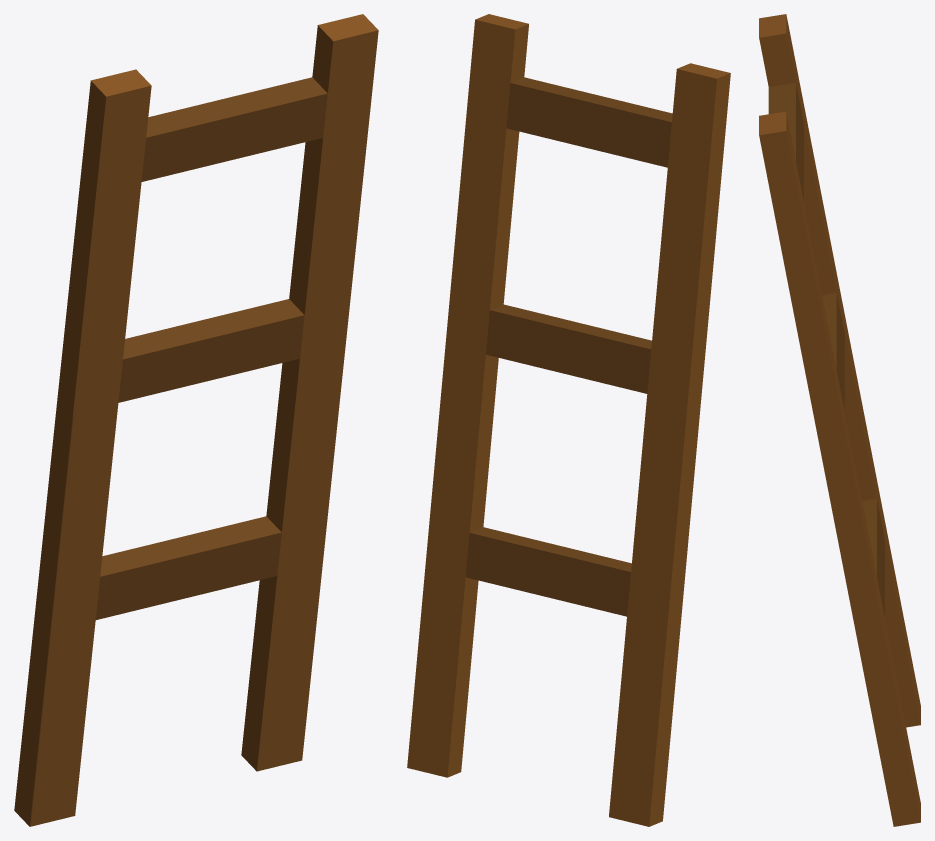
File: Lader.fbx
3 views of the same model, side by side, from view 1: azimuth 30°, elevation 25°; view 2: azimuth 150°, elevation 25°; view 3: azimuth 270°, elevation 25° (orthographic). The views are drawn at different scales.
Visible parts, largest first — view 1: Lader; view 2: Lader; view 3: Lader.
Part boxes in pixels (bbox=[...]): Lader: bbox=[14, 14, 378, 826]; Lader: bbox=[407, 14, 730, 826]; Lader: bbox=[759, 14, 920, 826].
Size of the model in its own units: 200 by 555 by 117.
1 material, 1 textured.
